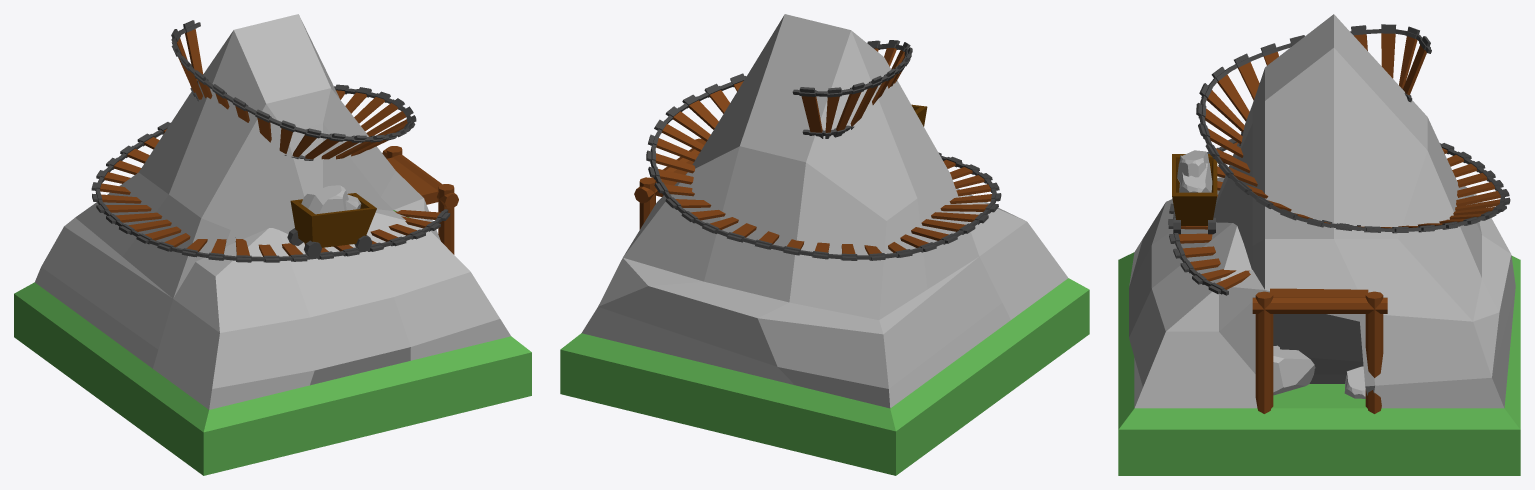
The model's file is MineMountainTile.fbx.
3 views of the same model, side by side, from view 1: azimuth 30°, elevation 25°; view 2: azimuth 150°, elevation 25°; view 3: azimuth 270°, elevation 25° (orthographic). The views are drawn at different scales.
Parts seen in each view (by area): view 1: Cube, Cube.001, Cube.002, Cylinder.001, Icosphere.007; view 2: Cube, Cube.001, Cylinder.001; view 3: Cube, Cube.001, Cylinder.001, Cube.002, Icosphere.003, Icosphere.007, Icosphere.001, Icosphere.002.
Part boxes in pixels (x1,y1,x2,y2): Cube: (14, 14, 531, 475); Cube.001: (91, 20, 450, 262); Cube.002: (290, 193, 376, 247); Cylinder.001: (382, 146, 458, 254); Icosphere.007: (301, 185, 348, 214); Cube: (560, 14, 1089, 475); Cube.001: (646, 40, 1001, 260); Cylinder.001: (634, 138, 705, 229); Cube: (1118, 14, 1520, 475); Cube.001: (1168, 24, 1510, 295); Cylinder.001: (1252, 288, 1387, 413); Cube.002: (1172, 154, 1217, 225); Icosphere.003: (1273, 345, 1315, 395); Icosphere.007: (1177, 150, 1209, 183); Icosphere.001: (1179, 162, 1212, 192); Icosphere.002: (1344, 366, 1365, 398).
Size of the model in its own units: 600 by 593 by 600.
